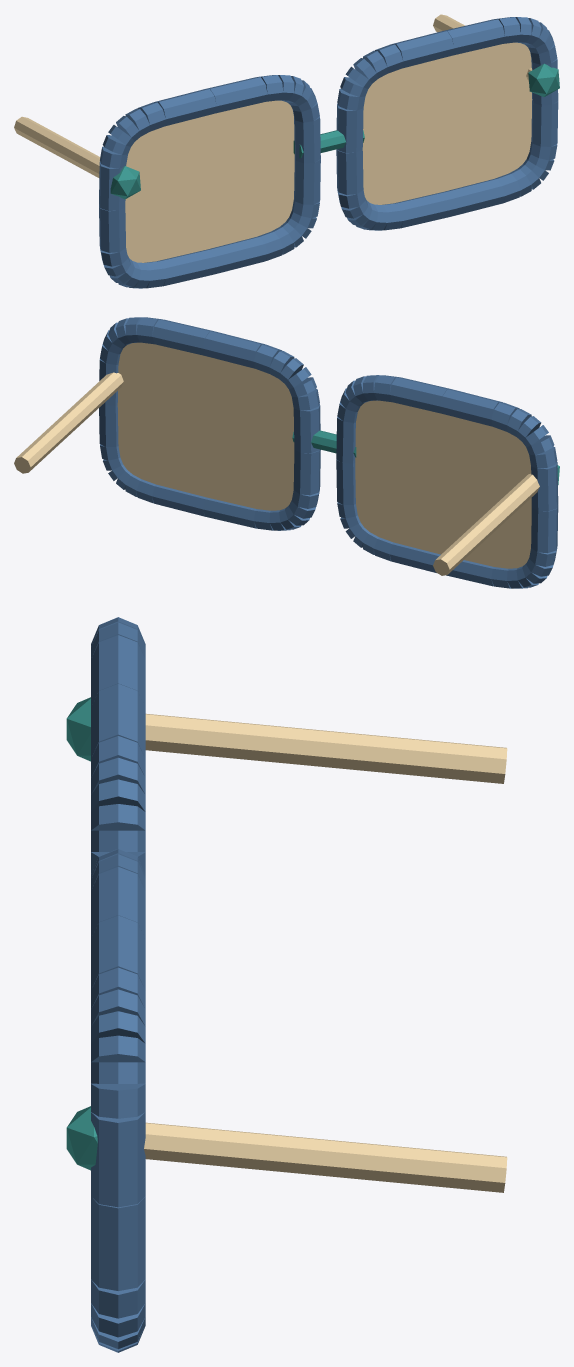
The model's file is eyewear_sunglasses.glb.
3 views of the same model, one above another, from view 1: azimuth 30°, elevation 25°; view 2: azimuth 150°, elevation 25°; view 3: azimuth 270°, elevation 25° (orthographic). The views are drawn at different scales.
Parts seen in each view (by area): view 1: wearable; view 2: wearable; view 3: wearable.
Part boxes in pixels (box(x1,y1,x2,y2)): wearable: box(14, 14, 559, 288); wearable: box(14, 317, 559, 588); wearable: box(66, 617, 507, 1352).
Bounding box in the file's own units: 0.654 × 0.254 × 0.2733.
